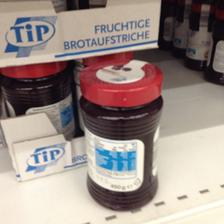Marmelade: (80, 58, 163, 212), (3, 64, 75, 136)
